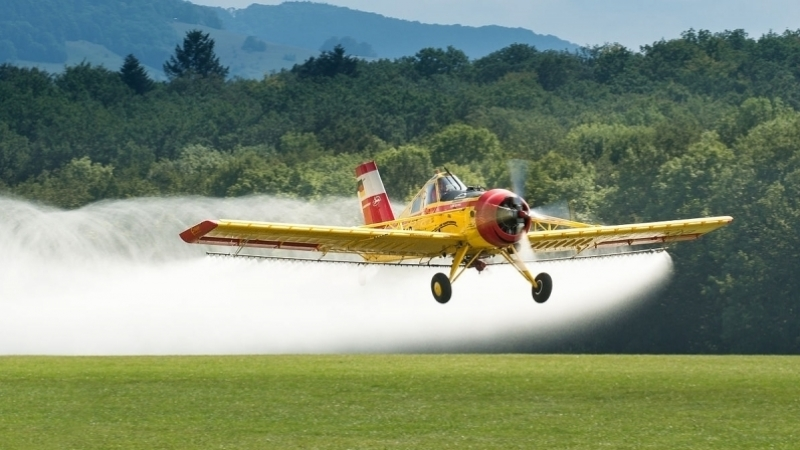Aeronef_de_service: (184, 156, 741, 322)
